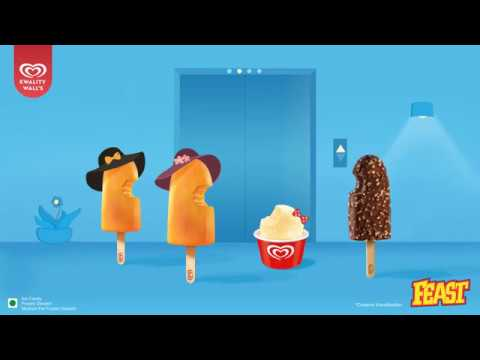Kwality_Walls: (266, 239, 295, 262), (17, 60, 46, 82)
